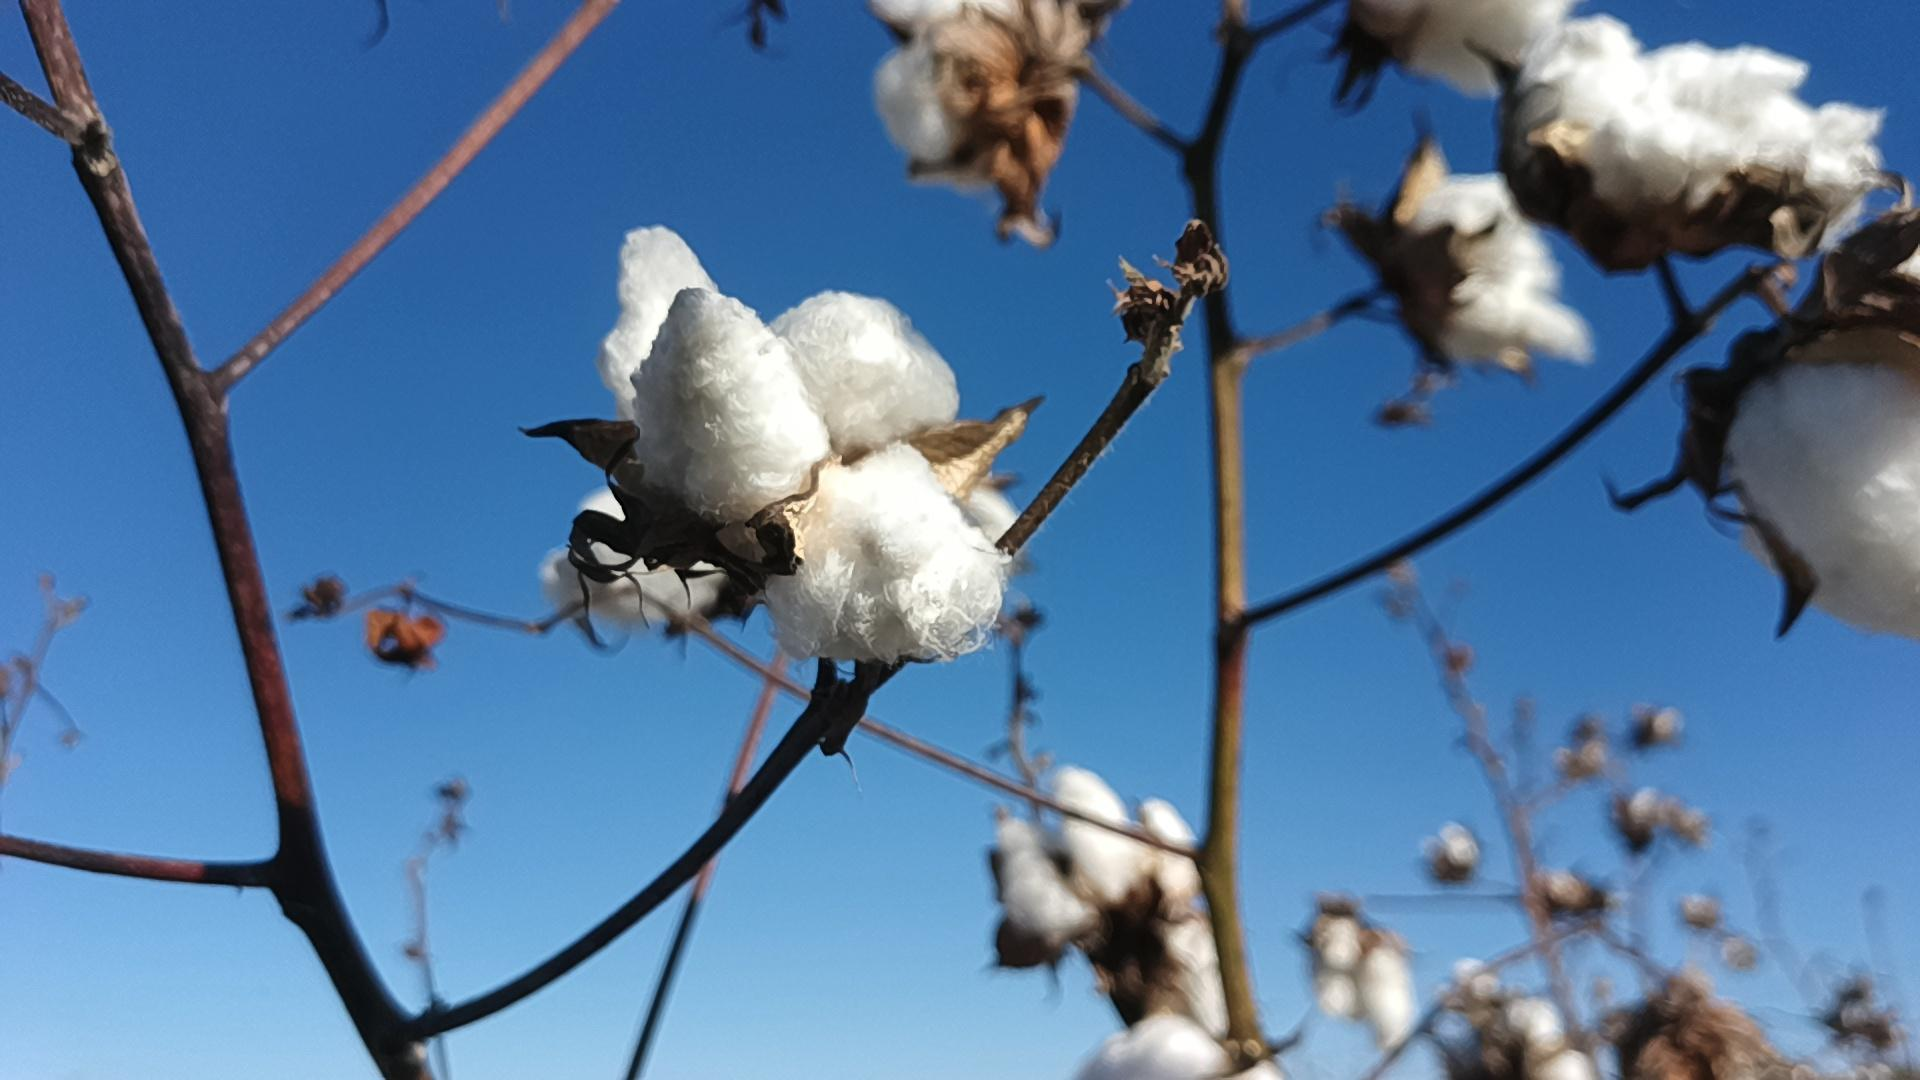cotton_ready: (608, 225, 1004, 661), (1526, 16, 1887, 235), (1724, 245, 1920, 644), (998, 765, 1230, 1033), (1412, 175, 1598, 365), (873, 0, 1050, 193), (543, 483, 728, 633), (1358, 0, 1576, 94), (1309, 913, 1415, 1054), (1076, 1018, 1236, 1080), (1509, 1001, 1598, 1080)
